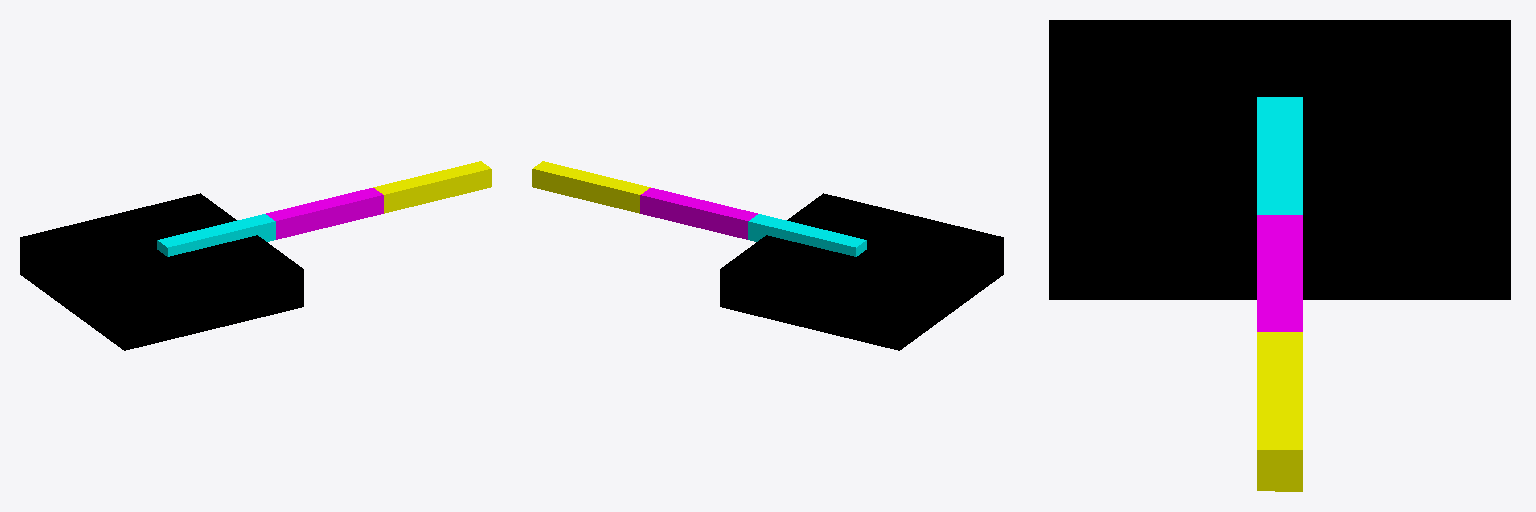
robot.urdf — robot:
<robot name="robot" xmlns:xacro="http://www.ros.org/wiki/xacro">
  <!--Descripción de los eslabones-->
  <link name="base_link">
    <visual>
      <geometry>
        <box size="0.5 0.5 0.1"/>
      </geometry>
      <origin xyz="0 0 -0.05"/>
      <material name="black">
        <color rgba="0 0 0 0.5"/>
      </material>
    </visual>
  </link>

  <link name="shoulder_link">
    <visual>
      <geometry>
        <box size="0.3 0.05 0.05"/>
      </geometry>
      <origin xyz="0.15 0 0"/>
      <material name="cyan">
        <color rgba="0 1 1 1"/>
      </material>
    </visual>
  </link>
  <link name="arm_link">
    <visual>
      <geometry>
        <box size="0.3 0.05 0.05"/>
      </geometry>
      <origin xyz="0.15 0 0"/>
      <material name="magenta">
        <color rgba="1 0 1 1"/>
      </material>
    </visual>
  </link>
  <link name="forearm_link">
    <visual>
      <geometry>
        <box size="0.3 0.05 0.05"/>
      </geometry>
      <origin xyz="0.15 0 0"/>
      <material name="yellow">
        <color rgba="1 1 0 1"/>
      </material>
    </visual>
  </link>

  <!--Descripción de las juntas-->
  <joint name="shoulder_joint" type="revolute"> <!--tipo de junta: revolute, prismatic, fixed-->
    <parent link="base_link"/>
    <child link="shoulder_link"/>
    <axis xyz="0 0 1"/>
    <limit lower="-3.14" upper ="3.14" effort="10.0" velocity="10.0"/>
    <origin rpy="1.57 0 0" xyz="0 0 0"/> <!--roll, pitch, yaw-->
  </joint>
  <joint name="arm_joint" type="revolute"> <!--tipo de junta: revolute, prismatic, fixed-->
    <parent link="shoulder_link"/>
    <child link="arm_link"/>
    <axis xyz="0 0 1"/>
    <limit lower="-3.14" upper ="3.14" effort="10.0" velocity="10.0"/>
    <origin xyz="0.3 0 0" rpy="0 0 0"/>
  </joint>
  <joint name="forearm_joint" type="revolute"> <!--tipo de junta: revolute, prismatic, fixed-->
    <parent link="arm_link"/>
    <child link="forearm_link"/>
    <axis xyz="0 0 1"/>
    <limit lower="-3.14" upper ="3.14" effort="10.0" velocity="10.0"/>
    <origin xyz="0.3 0 0"/>
  </joint>
</robot>

--- Render facts (derived) ---
The picture shows the robot from 3 angles, left to right: view 1: azimuth 30°, elevation 25°; view 2: azimuth 150°, elevation 25°; view 3: azimuth 270°, elevation 25°; orthographic projection.
Robot: robot — 4 links, 3 joints (3 revolute); root link base_link; default pose: every joint at zero.
Links seen in each view (by area): view 1: base_link, arm_link, forearm_link, shoulder_link; view 2: base_link, forearm_link, arm_link, shoulder_link; view 3: base_link, forearm_link, shoulder_link, arm_link.
Boxes of the visible links, <box> form: base_link: <box>20,193,303,350</box>; arm_link: <box>266,188,383,239</box>; forearm_link: <box>373,161,491,213</box>; shoulder_link: <box>157,214,275,256</box>; base_link: <box>720,193,1003,350</box>; forearm_link: <box>532,161,650,213</box>; arm_link: <box>640,188,757,239</box>; shoulder_link: <box>748,214,866,256</box>; base_link: <box>1049,20,1510,299</box>; forearm_link: <box>1257,332,1302,491</box>; shoulder_link: <box>1257,97,1302,214</box>; arm_link: <box>1257,215,1302,331</box>.
Bounding box of the posed robot: 1.15 × 0.5 × 0.125 m (x, y, z).
Geometry: primitives only (box / cylinder / sphere), no mesh files.
